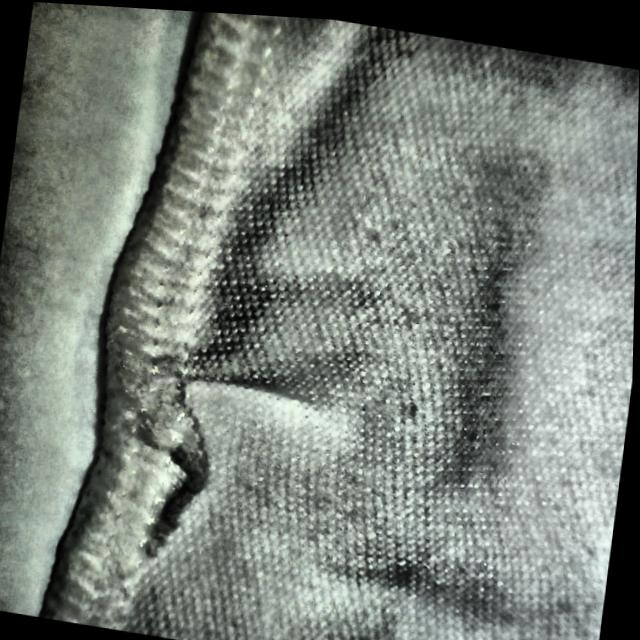seam: (83, 320, 287, 571)
